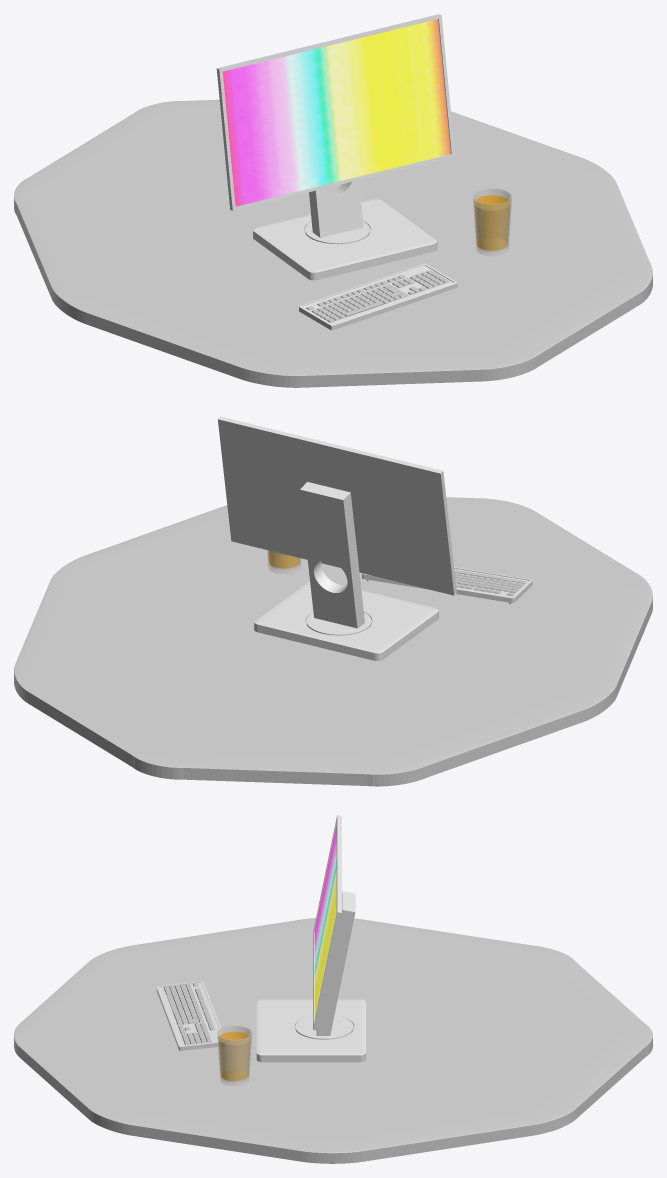
The model's file is prace.gltf.
The picture shows the model from 3 angles, top to bottom: view 1: azimuth 30°, elevation 25°; view 2: azimuth 150°, elevation 25°; view 3: azimuth 270°, elevation 25°; orthographic projection. The views are drawn at different scales.
Visible parts, largest first — view 1: Cylinder; view 2: Cylinder; view 3: Cylinder.
Boxes of the visible parts, x1,y1,x2,y2 form: Cylinder: (14,14,652,387); Cylinder: (14,416,652,786); Cylinder: (14,815,652,1163).
Bounding box in the file's own units: 8.44 × 3.04 × 9.67.
6 materials, 1 textured.
